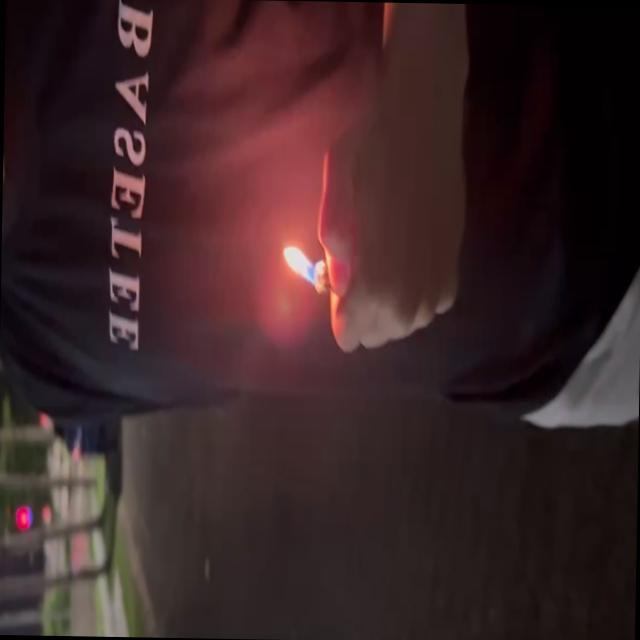Fire: (280, 243, 323, 291)
